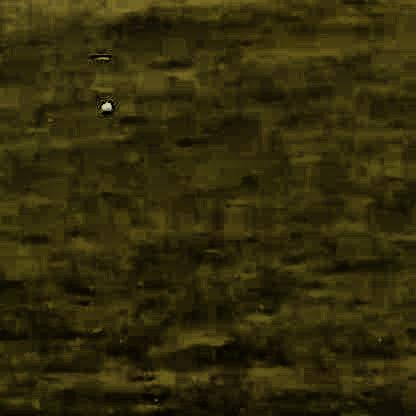golfball: (99, 98, 111, 112)
